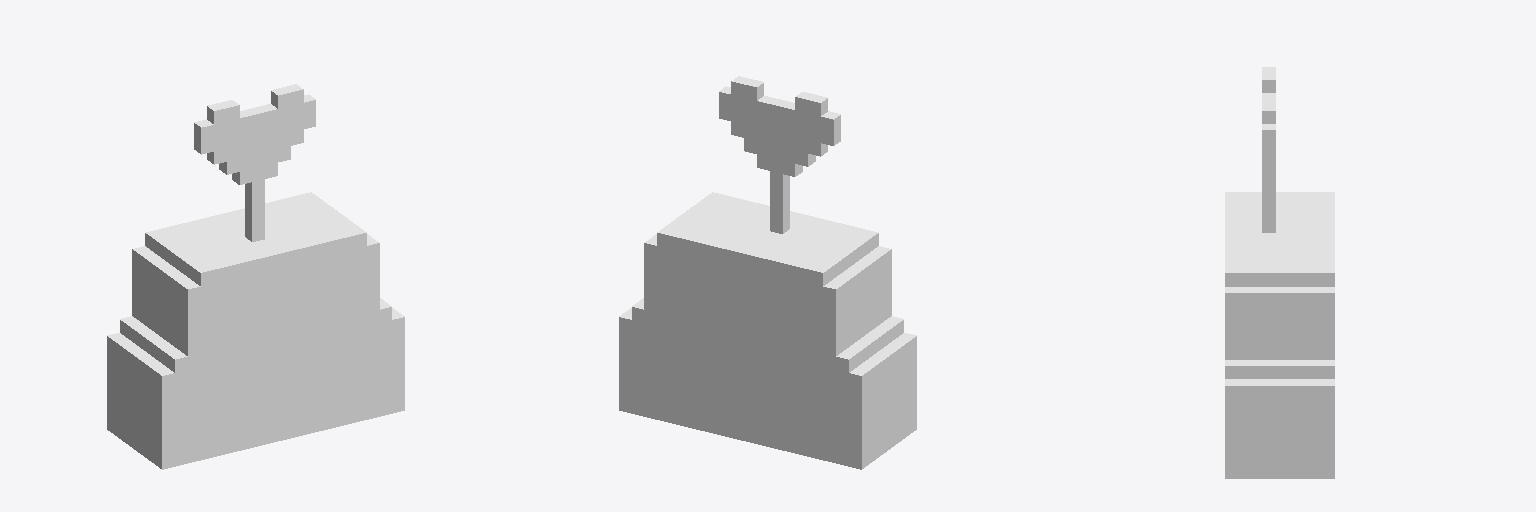
The model's file is pastel.obj.
The picture shows the model from 3 angles: view 1: azimuth 30°, elevation 25°; view 2: azimuth 150°, elevation 25°; view 3: azimuth 270°, elevation 25°; orthographic projection.
Visible parts, largest first — view 1: object 1; view 2: object 1; view 3: object 1.
Part boxes in pixels (bbox=[...]): object 1: bbox=[107, 84, 404, 469]; object 1: bbox=[619, 76, 916, 469]; object 1: bbox=[1225, 67, 1334, 478].
Bounding box in the file's own units: 3.8 × 4.9 × 1.5.